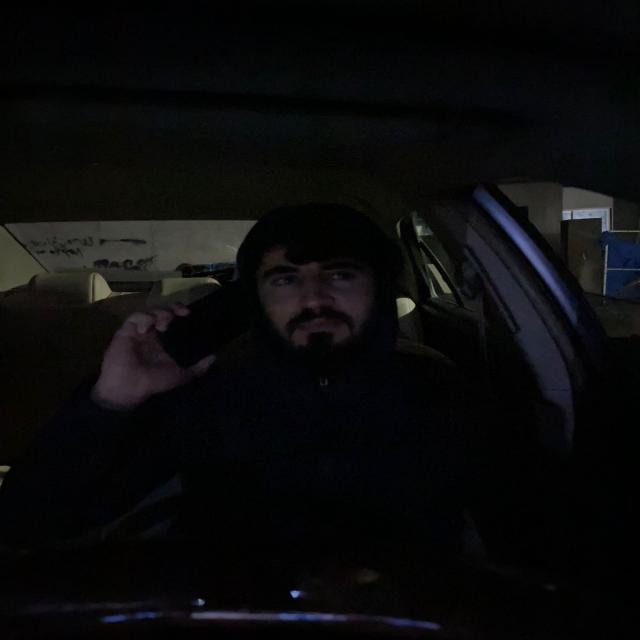mobile: (156, 287, 239, 374)
person: (244, 212, 392, 372)
